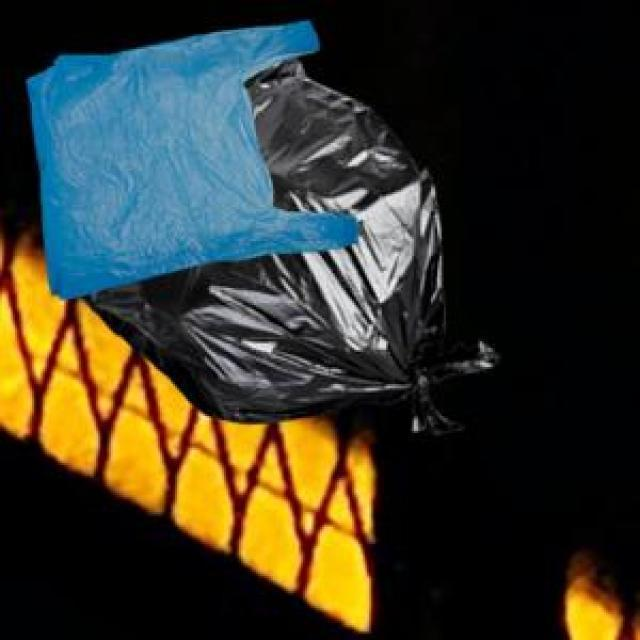miscellaneous trash: (77, 53, 495, 431)
